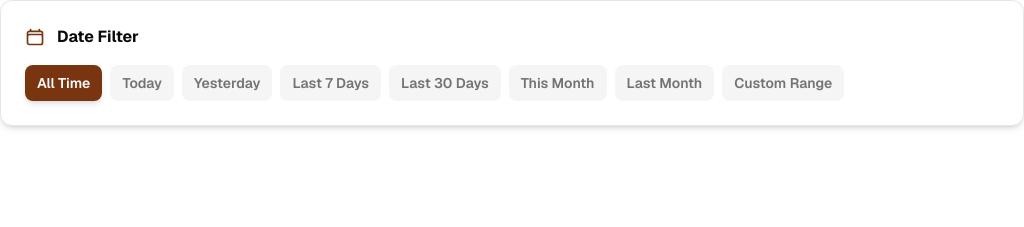
Test: DateRangePicker Component › Custom Date Range › should show custom date inputs when 'Custom Range' is clicked
Step 1. Click the button "Custom Range" → (783, 83), box x1=722 y1=65 x2=844 y2=101
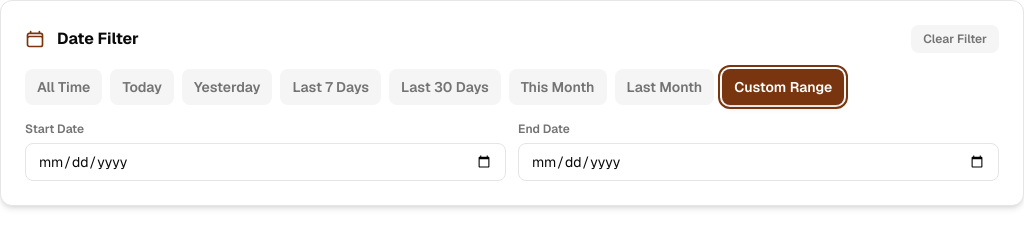
Expected: the date field labelled "Start Date" is shown, x1=25 y1=143 x2=506 y2=181
Expected: the date field labelled "End Date" is shown, x1=518 y1=143 x2=999 y2=181
